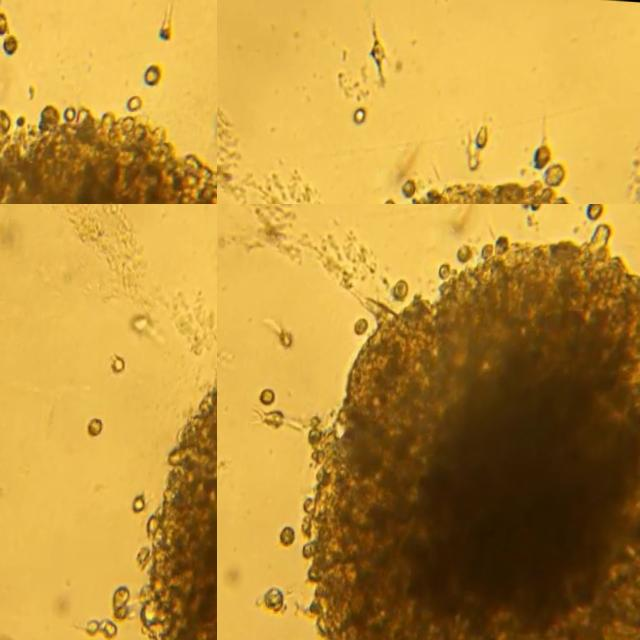cell: (369, 16, 387, 68), (470, 128, 485, 168), (274, 585, 294, 610), (546, 161, 568, 183), (395, 274, 413, 297), (269, 408, 292, 426), (537, 144, 552, 167), (290, 523, 305, 546), (94, 416, 111, 433), (147, 65, 163, 83), (460, 241, 474, 261), (404, 176, 419, 194), (478, 124, 491, 144), (138, 314, 153, 330), (359, 316, 374, 332), (285, 330, 299, 347), (140, 494, 154, 510), (116, 354, 129, 371), (6, 35, 20, 50), (160, 21, 173, 37), (442, 260, 454, 277), (268, 388, 281, 403), (96, 617, 108, 633), (130, 93, 147, 104), (589, 204, 606, 215), (116, 622, 127, 638), (0, 11, 8, 32), (355, 106, 367, 120), (107, 620, 118, 631), (388, 196, 398, 204)
tumor_mass: (306, 222, 640, 640), (0, 102, 217, 204)
